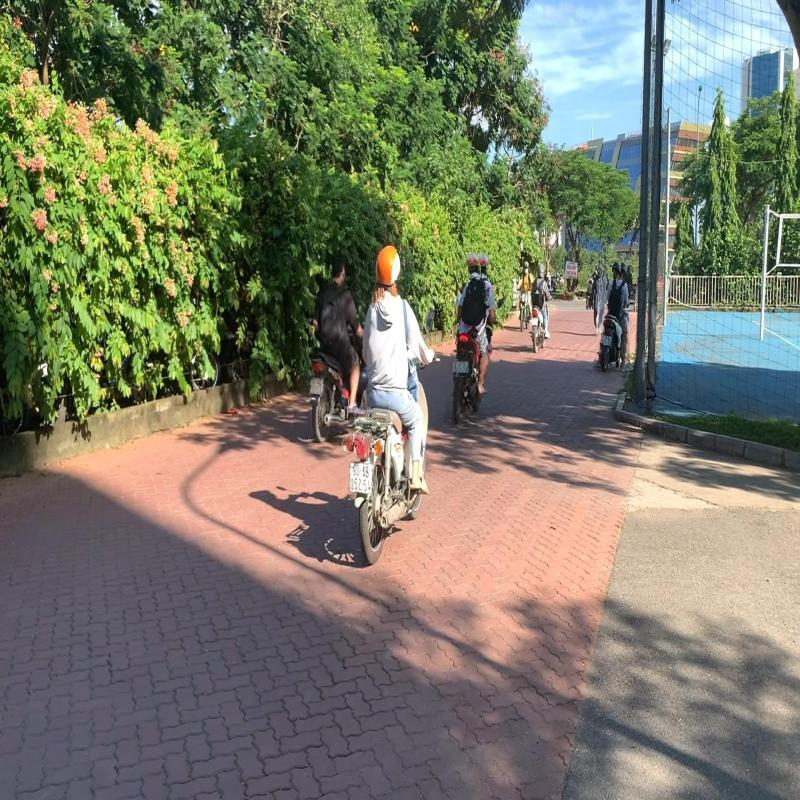helmet: (374, 242, 401, 288), (466, 251, 482, 278), (612, 263, 621, 279)
licenseplate: (347, 461, 374, 498), (308, 372, 326, 397), (455, 360, 470, 378), (603, 334, 613, 348)
motorcyclist: (342, 239, 443, 568), (308, 253, 370, 446), (448, 249, 507, 431), (595, 260, 636, 378)
nohelmet: (328, 256, 345, 288)
